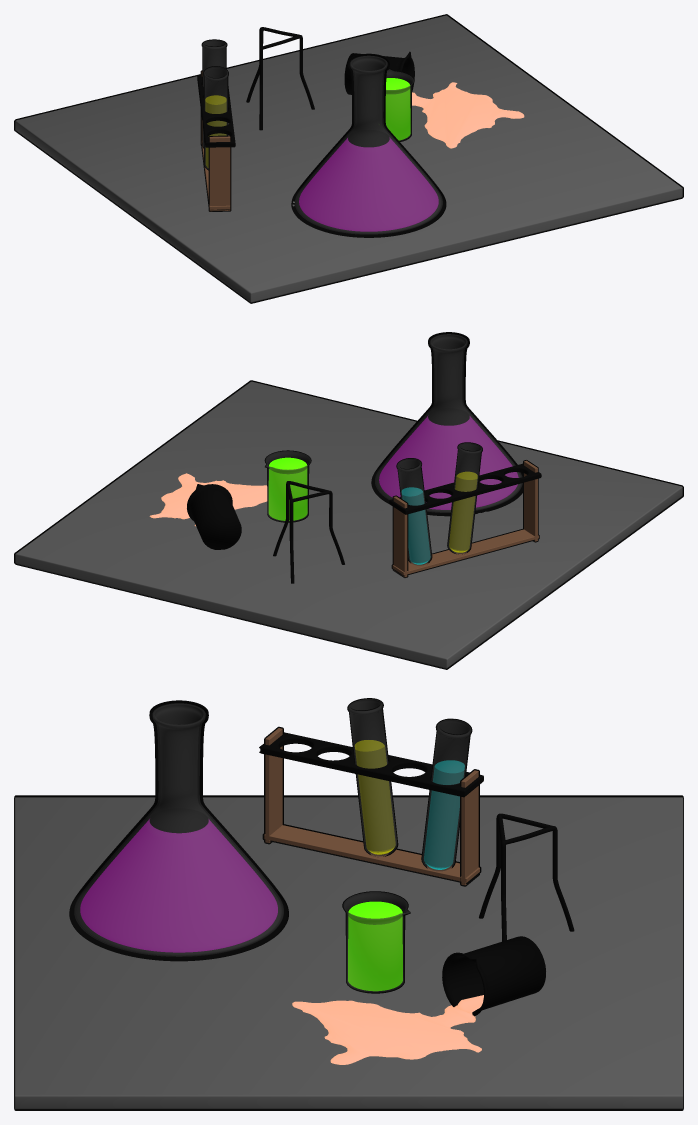
The model's file is Science beakers.fbx.
3 renders of one model, top to bottom at view 1: azimuth 30°, elevation 25°; view 2: azimuth 150°, elevation 25°; view 3: azimuth 270°, elevation 25°, orthographic. The views are drawn at different scales.
Visible parts, largest first — view 1: Cube, Cylinder.001, Plane, Cylinder.004, Cube.001, Cube.002, Cylinder.010, Cylinder.011, Cylinder.006, NurbsPath, Cylinder.009, Cylinder (+1 smaller); view 2: Cube, Cylinder.001, Cube.001, Cylinder.004, Cube.002, Cylinder.009, Cylinder.006, Cylinder.010, Cylinder, Cylinder.011, Plane, Cylinder.007 (+2 smaller); view 3: Cube, Cylinder.001, Plane, Cylinder.004, Cube.001, Cylinder.009, Cylinder.010, Cube.002, Cylinder.006, Cylinder.011, Cylinder, Cylinder.007 (+4 smaller).
Boxes of the visible parts, bbox=[...] form: Cube: bbox=[14, 14, 683, 303]; Cylinder.001: bbox=[295, 55, 442, 234]; Plane: bbox=[412, 82, 524, 148]; Cylinder.004: bbox=[291, 53, 446, 237]; Cube.001: bbox=[201, 71, 230, 211]; Cube.002: bbox=[197, 70, 235, 211]; Cylinder.010: bbox=[386, 68, 414, 141]; Cylinder.011: bbox=[385, 78, 410, 140]; Cylinder.006: bbox=[203, 66, 228, 169]; NurbsPath: bbox=[246, 27, 314, 130]; Cylinder.009: bbox=[344, 51, 414, 94]; Cylinder: bbox=[202, 40, 226, 147]; Cube: bbox=[14, 380, 683, 669]; Cylinder.001: bbox=[375, 334, 522, 512]; Cube.001: bbox=[392, 460, 538, 577]; Cylinder.004: bbox=[371, 332, 522, 516]; Cube.002: bbox=[389, 460, 541, 577]; Cylinder.009: bbox=[187, 484, 241, 549]; Cylinder.006: bbox=[447, 443, 482, 553]; Cylinder.010: bbox=[264, 450, 311, 522]; Cylinder: bbox=[397, 458, 431, 565]; Cylinder.011: bbox=[268, 457, 307, 520]; Plane: bbox=[149, 473, 267, 526]; Cylinder.007: bbox=[449, 472, 477, 552]; Cube: bbox=[14, 795, 683, 1110]; Cylinder.001: bbox=[74, 703, 283, 956]; Plane: bbox=[292, 1000, 481, 1064]; Cylinder.004: bbox=[69, 700, 288, 961]; Cube.001: bbox=[264, 728, 479, 885]; Cylinder.009: bbox=[442, 936, 545, 1016]; Cylinder.010: bbox=[342, 891, 410, 993]; Cube.002: bbox=[259, 726, 483, 886]; Cylinder.006: bbox=[348, 699, 397, 856]; Cylinder.011: bbox=[348, 901, 402, 991]; Cylinder: bbox=[422, 719, 471, 870]; Cylinder.007: bbox=[355, 740, 395, 854].
Size of the model in its own units: 6801 by 2338 by 6410.
